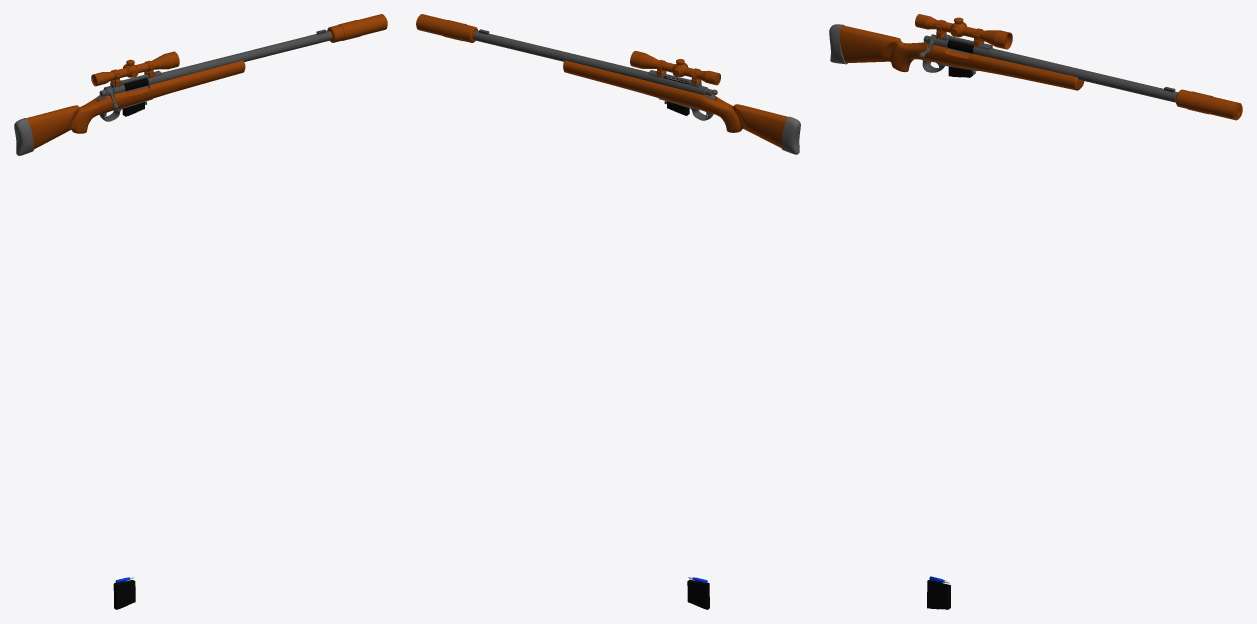
Rendered from BOLT.fbx.
3 views of the same model, side by side, from view 1: azimuth 30°, elevation 25°; view 2: azimuth 150°, elevation 25°; view 3: azimuth 330°, elevation 25° (orthographic). The views are drawn at different scales.
Visible parts, largest first — view 1: rifle.003; view 2: rifle.003; view 3: rifle.003.
Boxes of the visible parts, left/top/right/bottom form: rifle.003: left=14, top=14, right=387, bottom=609; rifle.003: left=416, top=14, right=800, bottom=609; rifle.003: left=829, top=14, right=1242, bottom=609.
Size of the model in its own units: 1208 by 1676 by 91.04.
